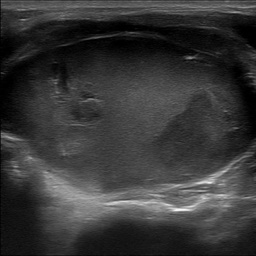mass: (11, 35, 256, 191)
